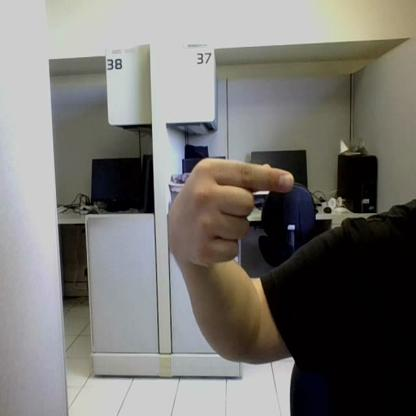G: (176, 158, 294, 264)
